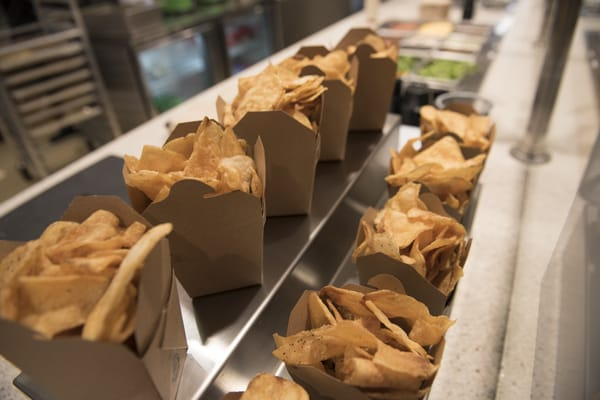curry: (0, 15, 451, 390)
